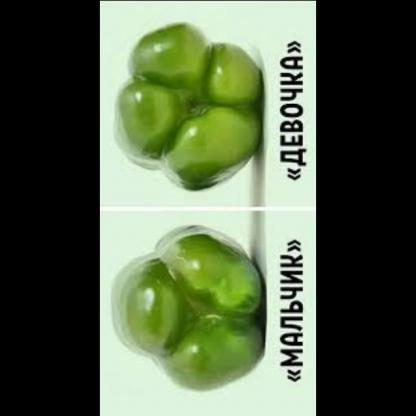bell pepper: (108, 20, 268, 189), (104, 229, 262, 398)
